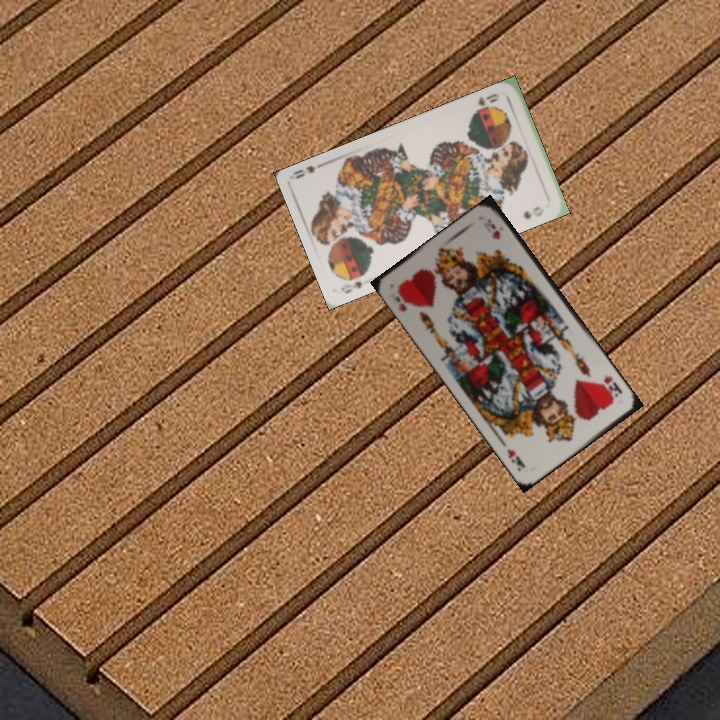HK: (599, 370, 625, 401), (391, 282, 414, 314)
SO: (474, 89, 502, 109), (337, 277, 365, 296)
